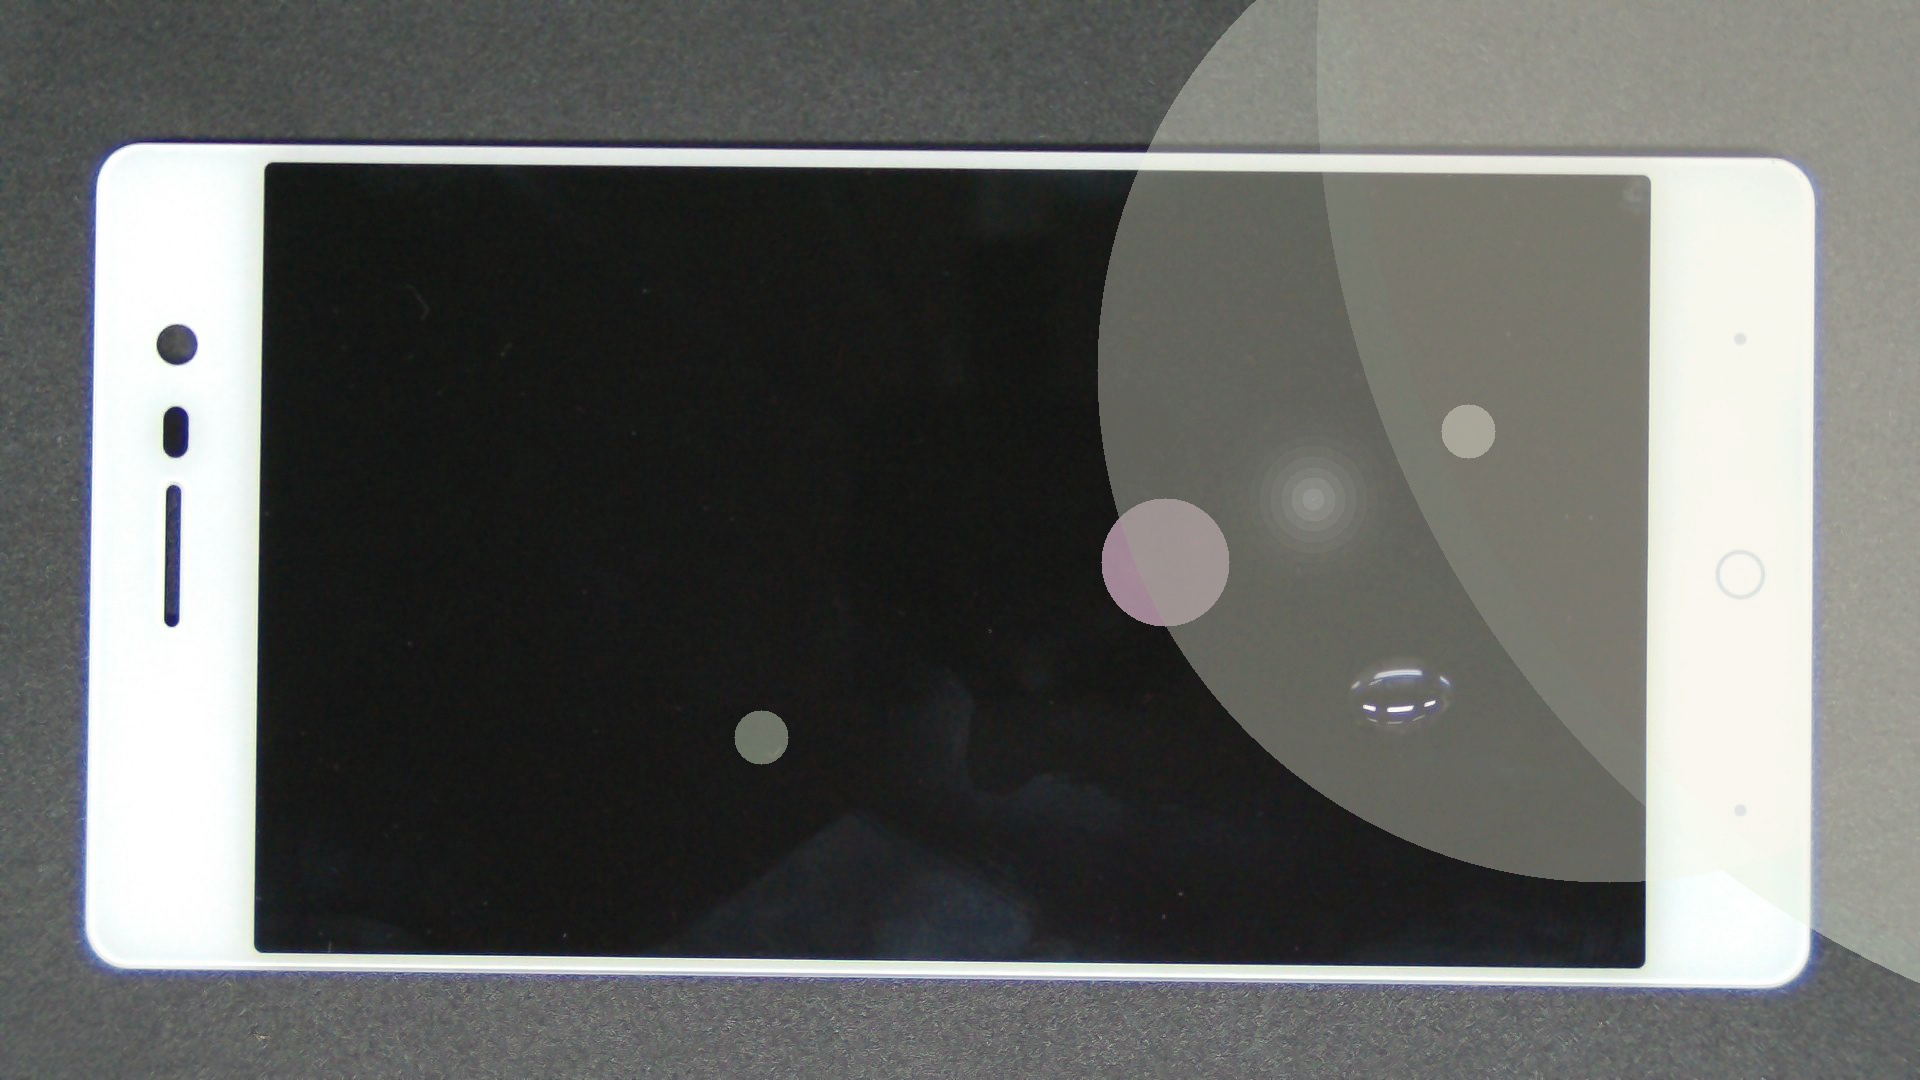oil: (704, 327, 1920, 985)
